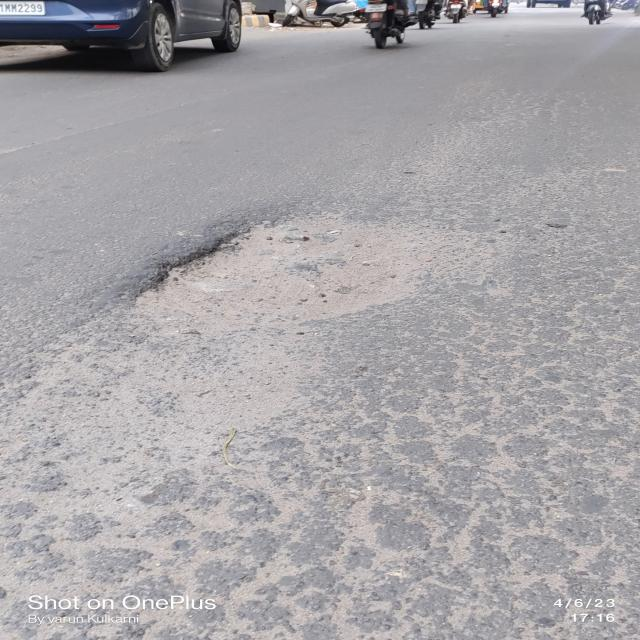potholes: (127, 201, 420, 324)
